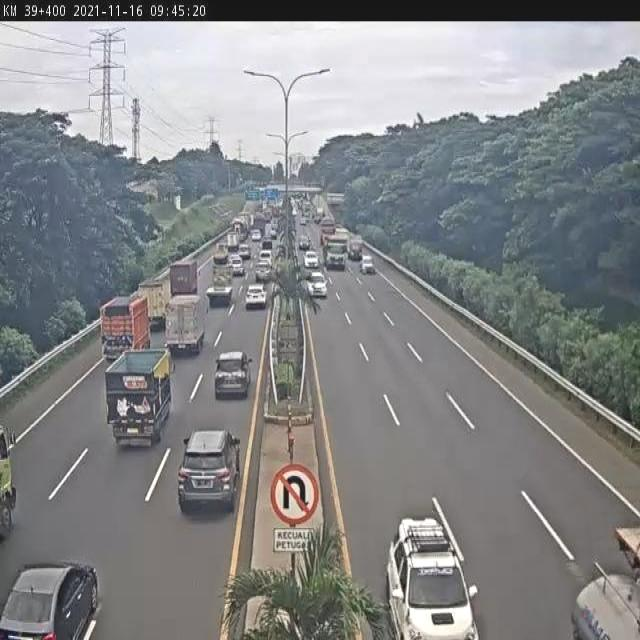Car: (386, 514, 480, 640), (0, 559, 100, 640), (176, 429, 242, 514), (214, 348, 253, 397), (245, 284, 268, 310), (306, 271, 328, 298), (253, 260, 271, 283), (303, 250, 321, 270), (360, 254, 376, 275), (230, 256, 244, 276), (238, 243, 251, 260), (298, 234, 310, 250), (260, 235, 274, 248), (251, 228, 263, 241), (291, 204, 297, 217)
Truck: (104, 345, 174, 445), (99, 293, 151, 362), (163, 294, 207, 355), (137, 276, 172, 331), (206, 263, 235, 301), (323, 234, 348, 273), (170, 259, 197, 295), (230, 215, 249, 242), (319, 216, 336, 244), (211, 241, 230, 263), (348, 236, 363, 261), (254, 213, 268, 236), (226, 232, 240, 254), (267, 204, 281, 223), (260, 208, 272, 224)
Van: (258, 248, 274, 268)
